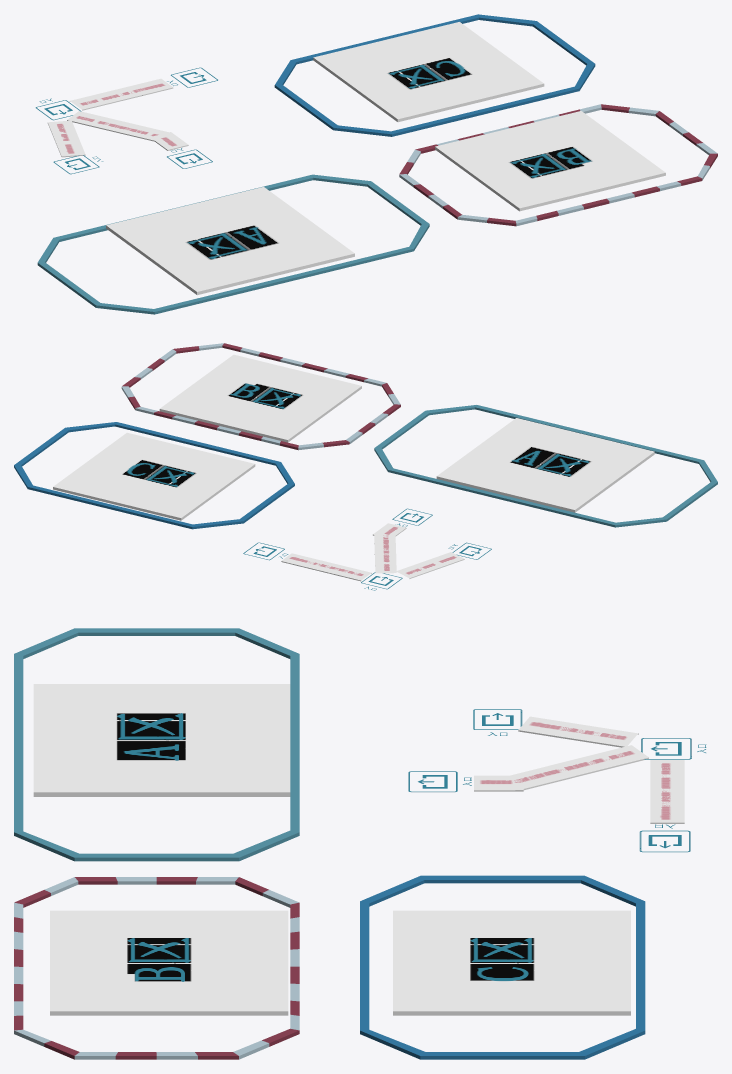
The model's file is biaoxian.fbx.
3 renders of one model, top to bottom at view 1: azimuth 30°, elevation 25°; view 2: azimuth 150°, elevation 25°; view 3: azimuth 270°, elevation 25°, orthographic. The views are drawn at different scales.
Parts seen in each view (by area): view 1: pCube25, pCube29, pCube28, pCube22, pCube39, pCube38; view 2: pCube25, pCube29, pCube28, pCube22, pCube39, pCube38; view 3: pCube25, pCube28, pCube29, pCube22, pCube39, pCube38, pCube99 (×2), pCube106.
Part boxes in pixels (x1,y1,x2,y2): pCube25: (106,187,354,295); pCube29: (313,22,544,122); pCube28: (435,111,665,211); pCube22: (37,174,429,314); pCube39: (274,14,595,136); pCube38: (399,104,717,226); pCube25: (436,418,654,512); pCube29: (53,432,255,520); pCube28: (159,354,361,442); pCube22: (374,405,717,527); pCube39: (14,422,294,529); pCube38: (121,343,400,450); pCube25: (33,684,290,796); pCube28: (50,910,288,1015); pCube29: (393,910,630,1015); pCube22: (14,628,299,861); pCube39: (360,875,645,1059); pCube38: (14,877,299,1059); pCube99 (×2): (518,716,684,823); pCube106: (474,775,523,791).
Bounding box in the file's own units: 1261 × 11.46 × 877.
9 materials, 5 textured.
